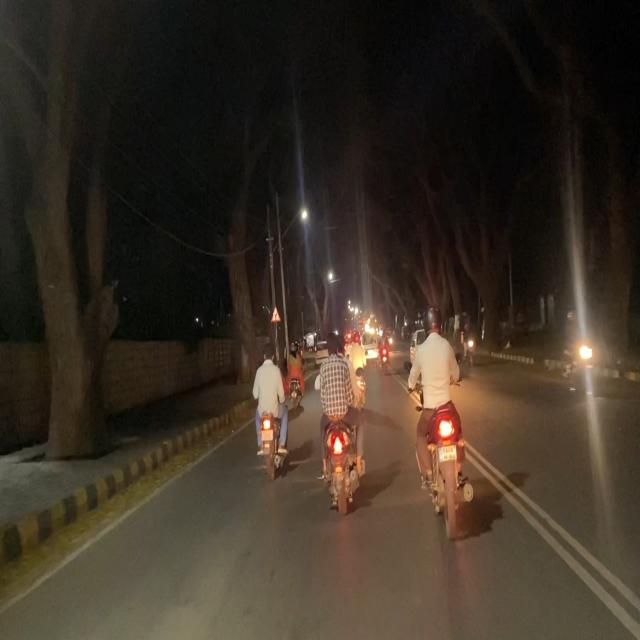bien_cam: (271, 304, 281, 324)
